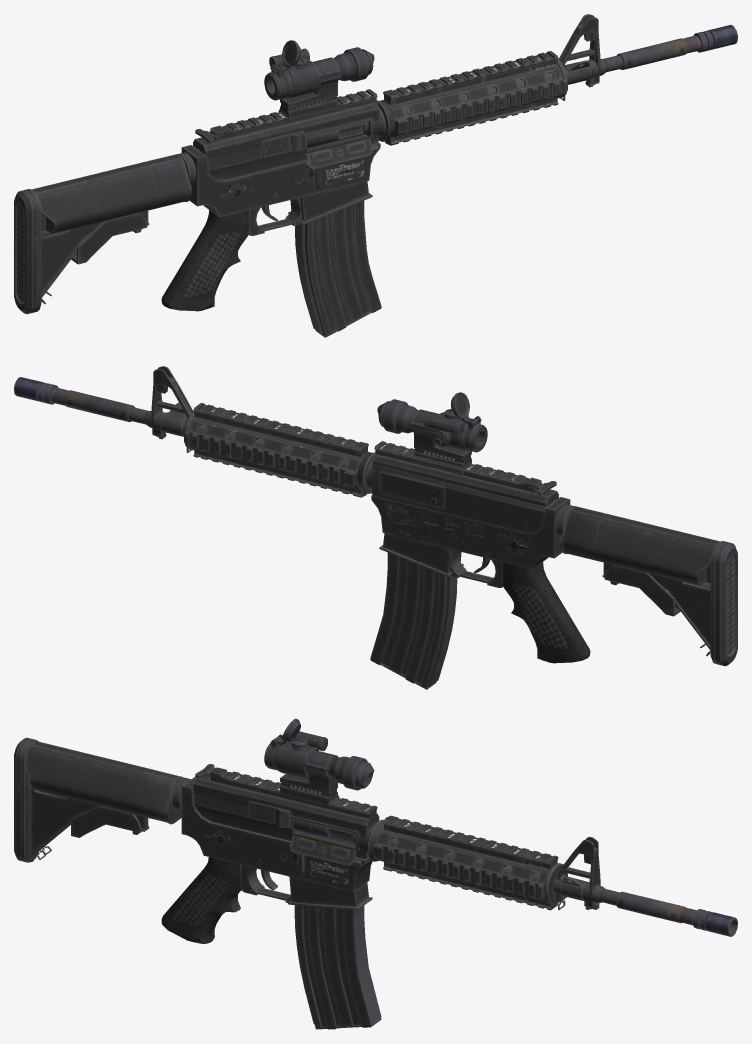
Rendered from Gun.glb.
The picture shows the model from 3 angles, top to bottom: view 1: azimuth 30°, elevation 25°; view 2: azimuth 150°, elevation 25°; view 3: azimuth 330°, elevation 25°; orthographic projection.
Parts seen in each view (by area): view 1: M4Colt; view 2: M4Colt; view 3: M4Colt.
Part boxes in pixels (x1,y1,x2,y2): M4Colt: (14, 14, 737, 337); M4Colt: (14, 366, 737, 689); M4Colt: (14, 718, 737, 1029).
Size of the model in its own units: 4.96 by 1.99 by 0.3105.
3 materials, 3 textured.
